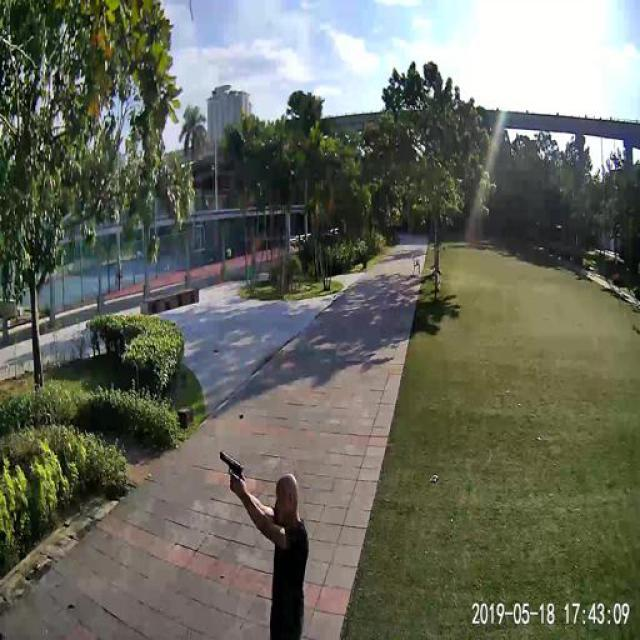Gun: (216, 445, 242, 479)
